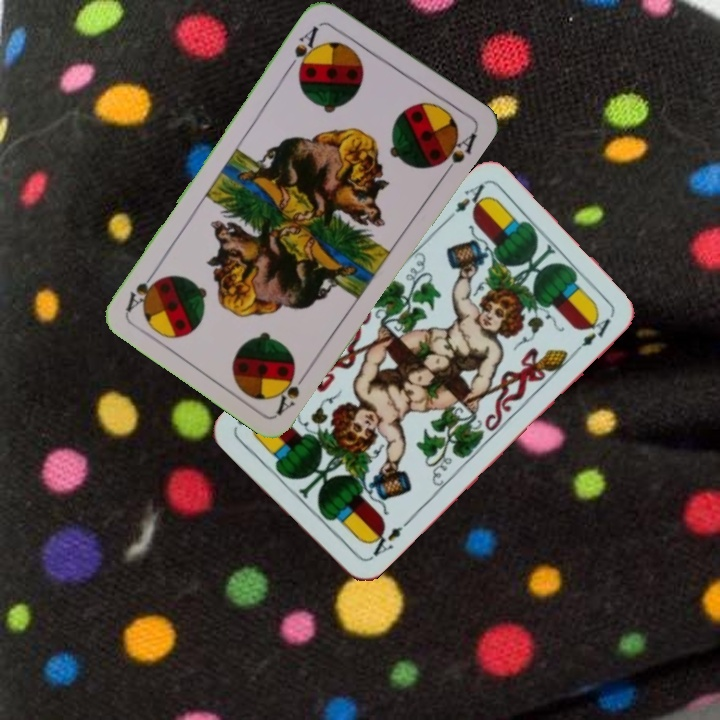EA: (441, 179, 491, 226), (362, 522, 406, 563)
SA: (284, 20, 324, 77), (271, 363, 313, 417)
